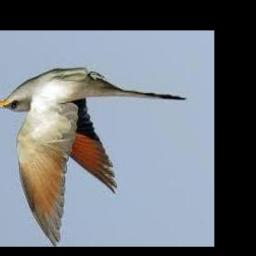Cuckoo: (0, 69, 186, 247)
